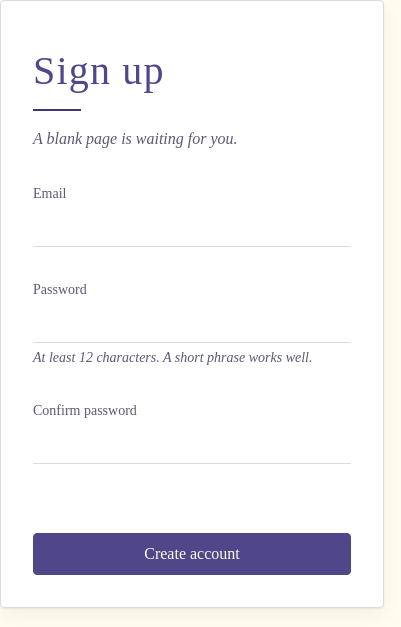
Test: SignupForm › states the minimum length when the password is too short
Type "orphee@example.test" into the field labelled "Email" at (192, 227), box [33,208,351,246]
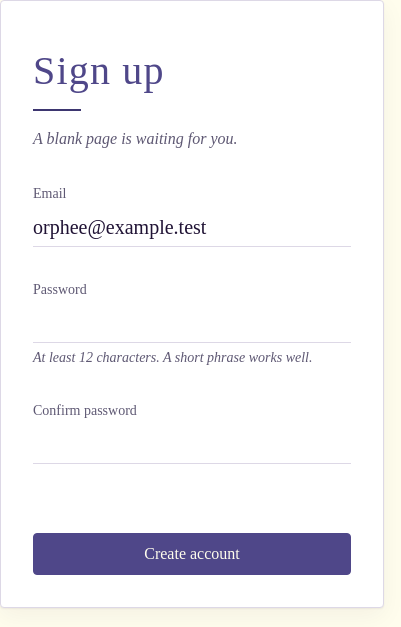
Type "lyre" into the password field labelled "Password" at (192, 323), box [33,304,351,342]
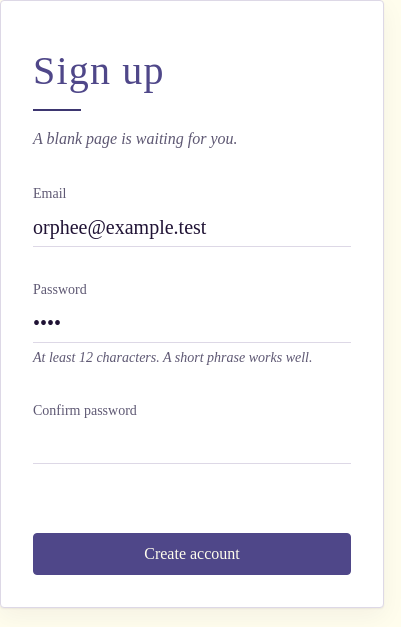
Type "lyre" into the password field labelled "Confirm password" at (192, 444), box [33,424,351,464]
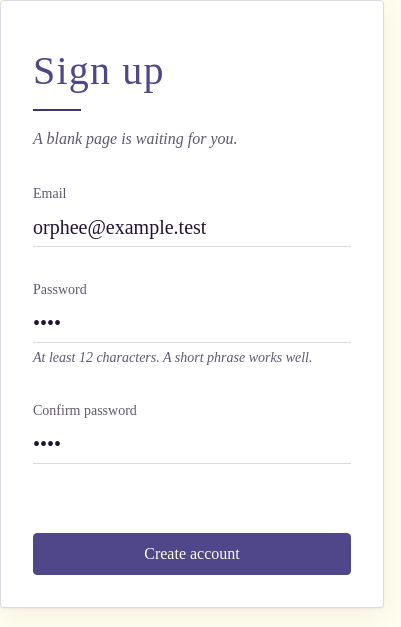
Submit the form named "Create account"
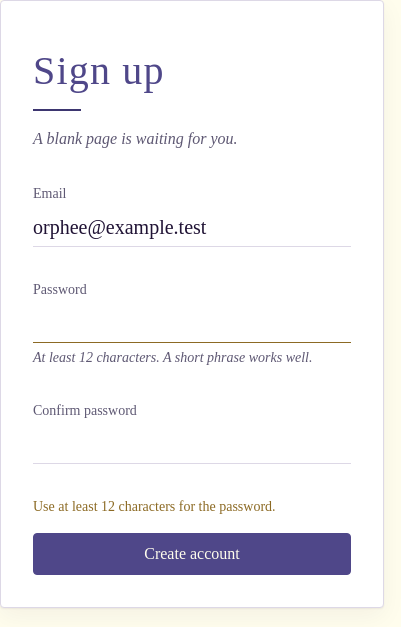
expect the message reads "Use at least 12 characters for the password.": met, box [33,498,276,514]
